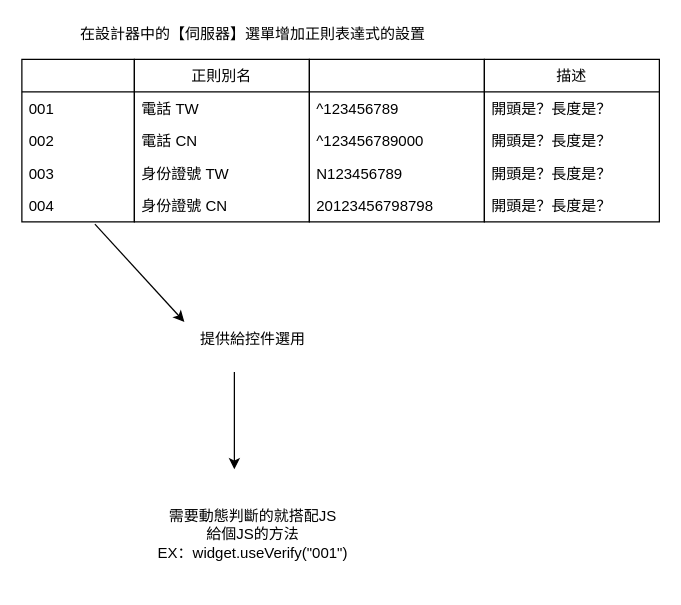
Some shapes in this 681 by 605 pixel diagram are drawn without their labels. Each missing label, with the box of its shape:
正則表達式: (308, 58, 484, 222)
編號: (21, 58, 134, 222)
